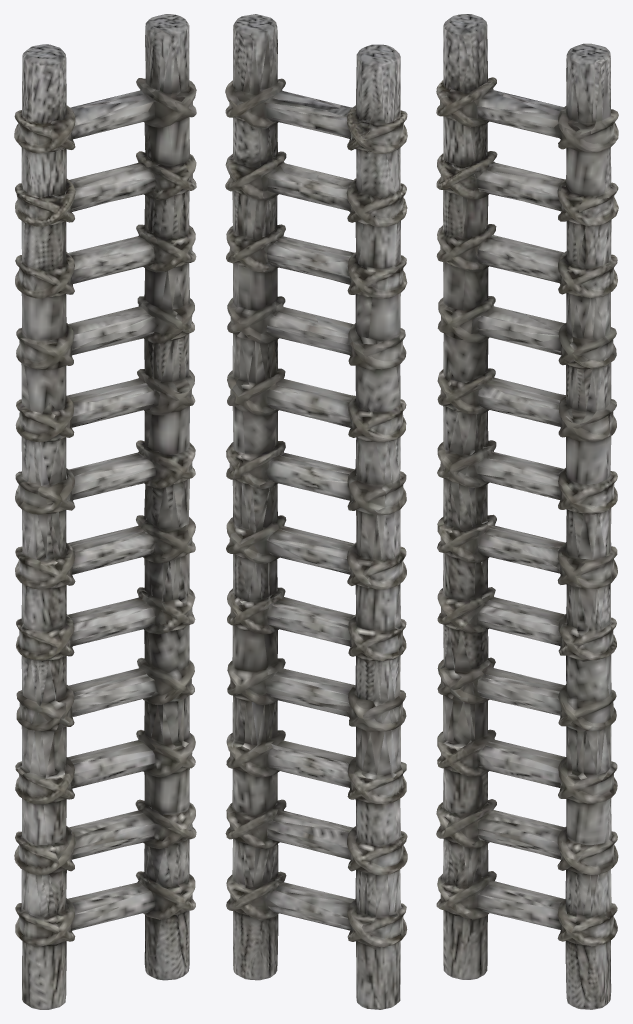
Rendered from bb_ladder.ed00c35aff.glb.
The picture shows the model from 3 angles, left to right: view 1: azimuth 30°, elevation 25°; view 2: azimuth 150°, elevation 25°; view 3: azimuth 330°, elevation 25°; orthographic projection.
Visible parts, largest first — view 1: bb_ladder; view 2: bb_ladder; view 3: bb_ladder.
Part boxes in pixels (x1,y1,x2,y2): bb_ladder: (14, 14, 196, 1009); bb_ladder: (225, 14, 407, 1009); bb_ladder: (436, 14, 618, 1009).
Size of the model in its own units: 0.355 by 1.9 by 0.1316.
Materials: 1 (1 with a texture image).
